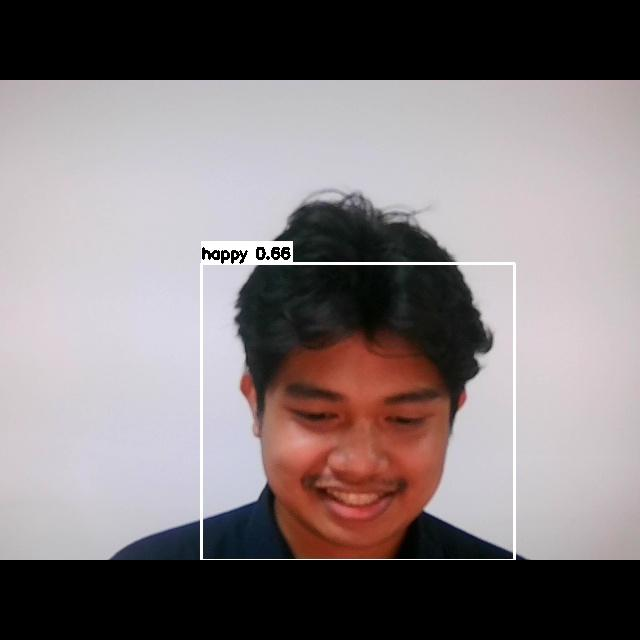Happy: (250, 355, 449, 524)
